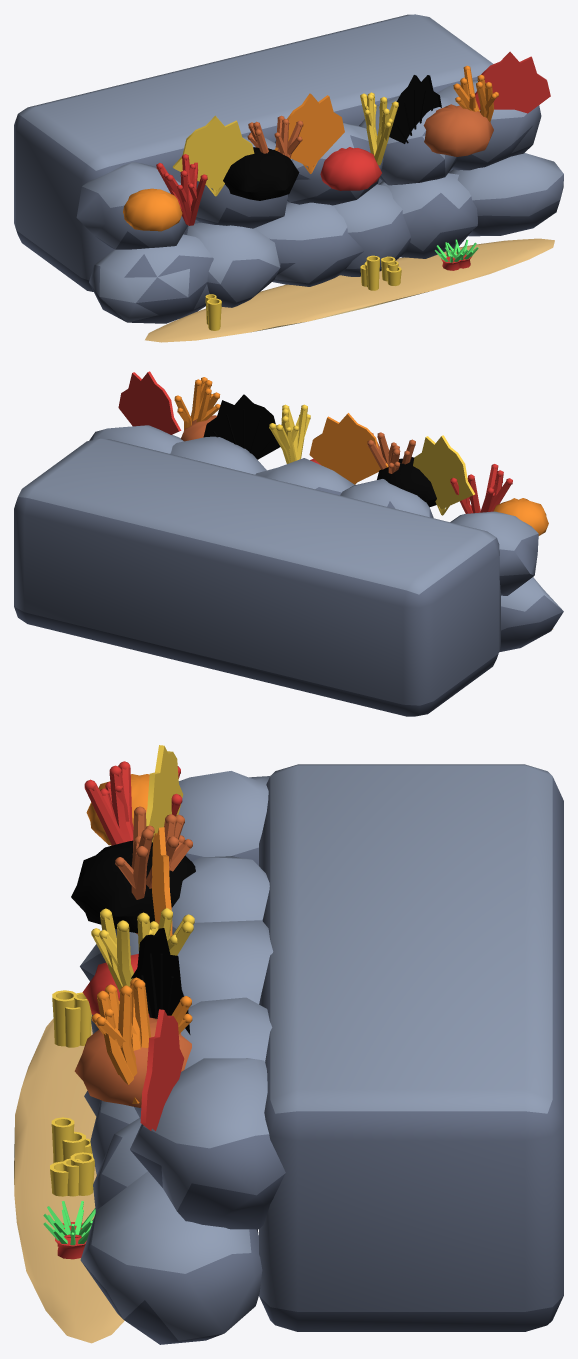
File: ReefWallA.fbx
3 views of the same model, one above another, from view 1: azimuth 30°, elevation 25°; view 2: azimuth 150°, elevation 25°; view 3: azimuth 270°, elevation 25° (orthographic). The views are drawn at different scales.
Parts seen in each view (by area): view 1: ReefWallA; view 2: ReefWallA; view 3: ReefWallA.
Boxes of the visible parts, x1=… form: ReefWallA: x1=14, y1=14, x2=563, y2=342; ReefWallA: x1=14, y1=371, x2=563, y2=716; ReefWallA: x1=14, y1=745, x2=563, y2=1344.
Bounding box in the file's own units: 8.43 × 3.39 × 4.96.
1 material, 1 textured.
